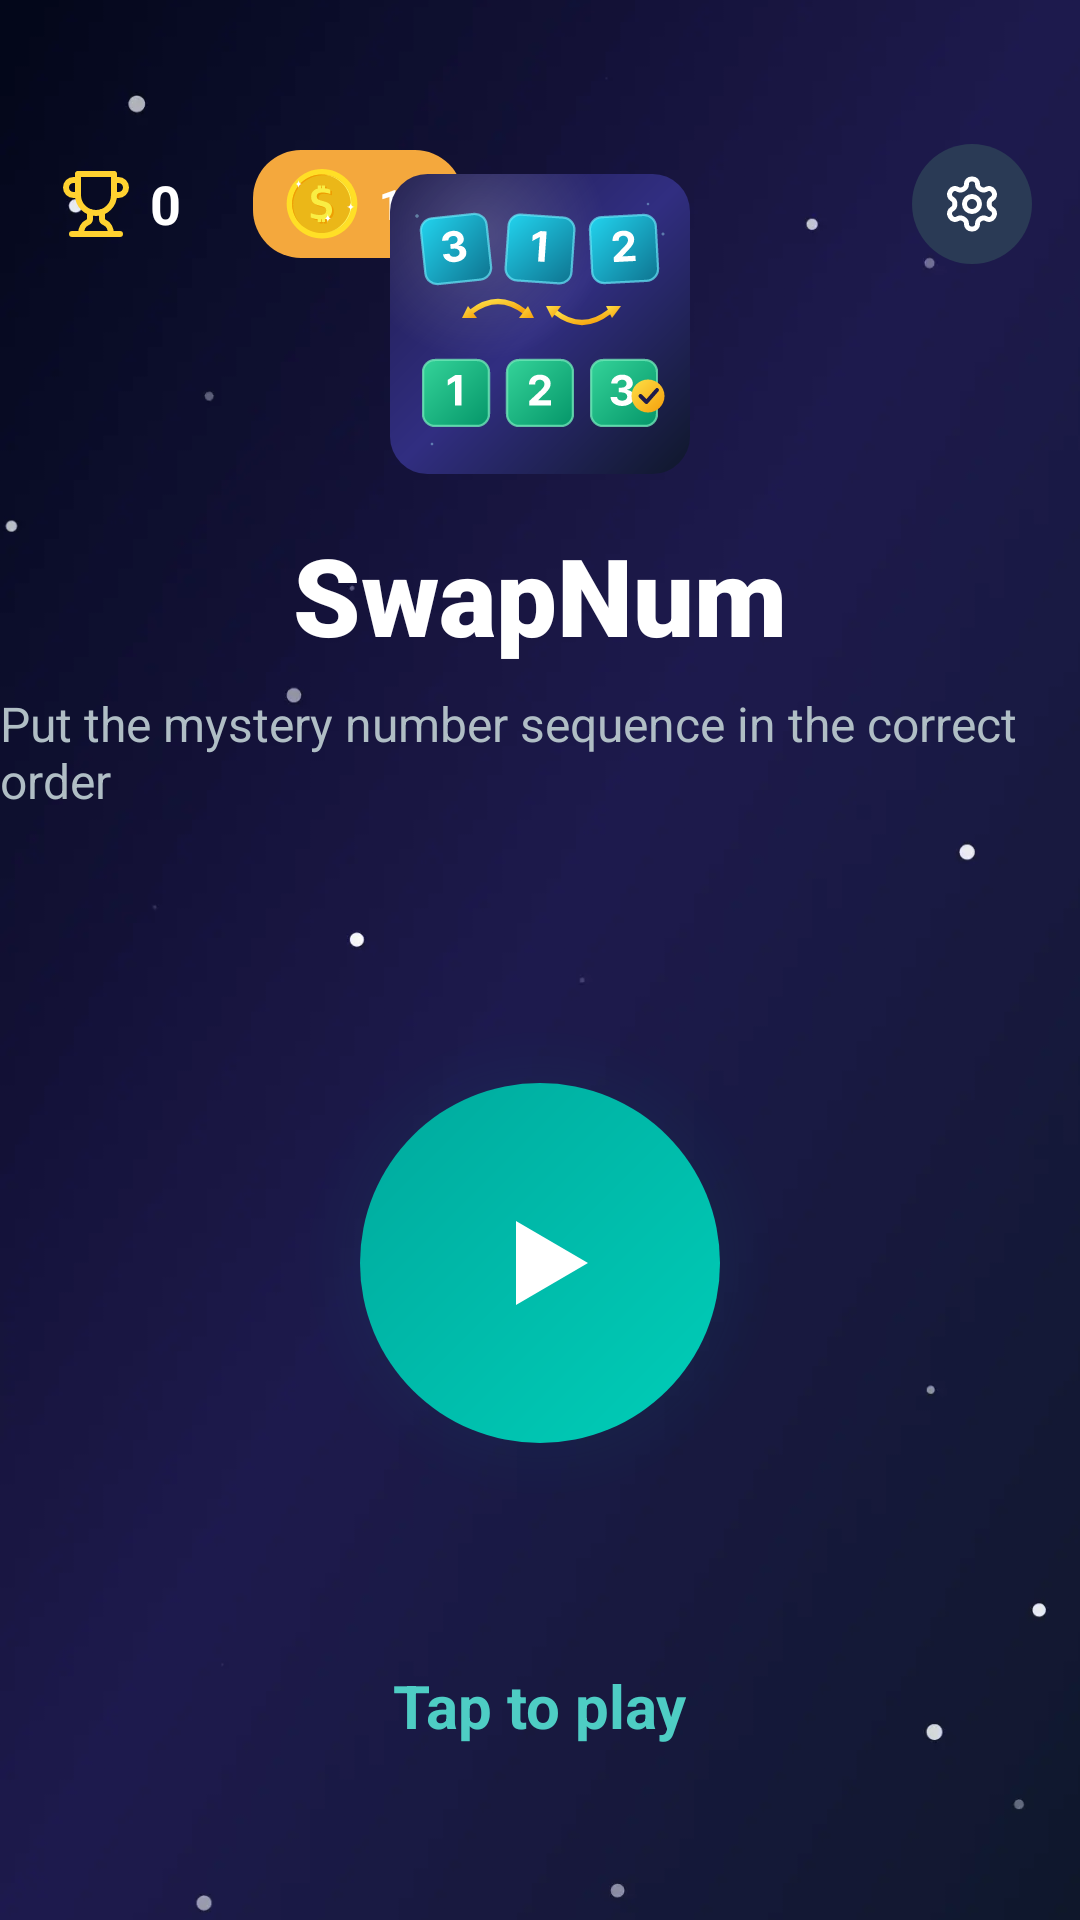

Icon bounding boxes for this 1080*1920 phone screenshot, format rect(x1, y1, x2, y2):
Coin: rect(287, 169, 357, 239)
Play: rect(516, 1221, 588, 1305)
Score: rect(63, 171, 129, 237)
Settings: rect(947, 176, 997, 232)
